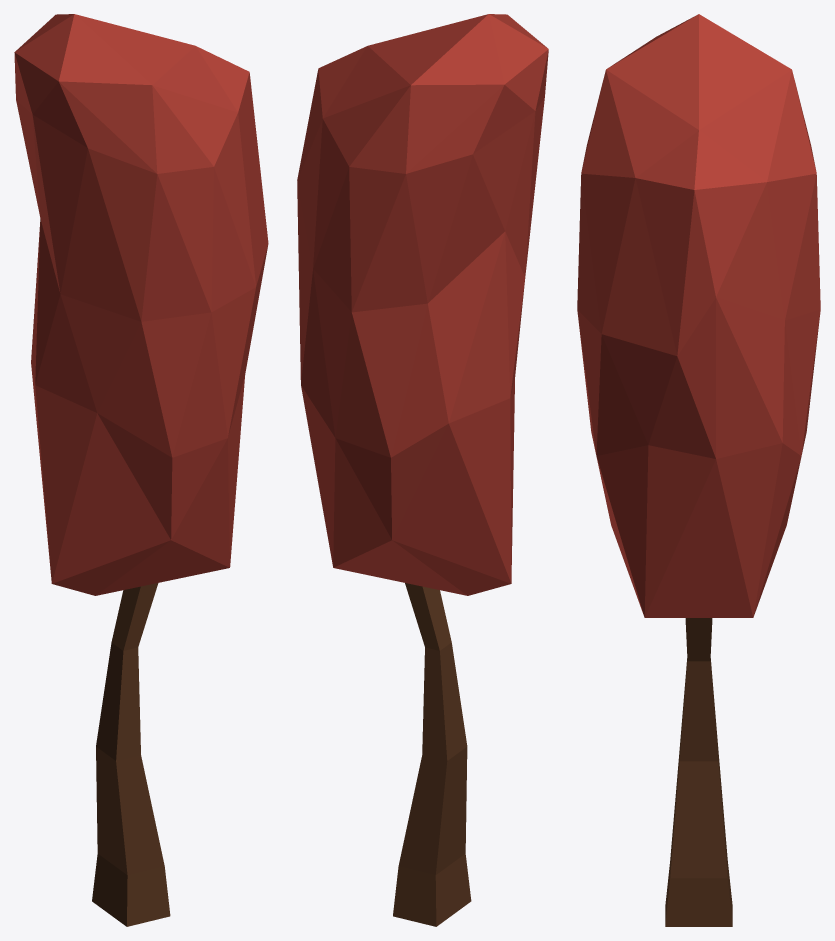
File: Tree_38_Red.fbx
The picture shows the model from 3 angles, left to right: view 1: azimuth 30°, elevation 25°; view 2: azimuth 150°, elevation 25°; view 3: azimuth 270°, elevation 25°; orthographic projection. The views are drawn at different scales.
Visible parts, largest first — view 1: Tree_38_Red_Part_1, Tree_38_Red_Part_2; view 2: Tree_38_Red_Part_1, Tree_38_Red_Part_2; view 3: Tree_38_Red_Part_1, Tree_38_Red_Part_2.
Boxes of the visible parts, x1=… form: Tree_38_Red_Part_1: x1=14, y1=14, x2=268, y2=595; Tree_38_Red_Part_2: x1=92, y1=583, x2=170, y2=926; Tree_38_Red_Part_1: x1=297, y1=14, x2=548, y2=595; Tree_38_Red_Part_2: x1=393, y1=583, x2=471, y2=926; Tree_38_Red_Part_1: x1=577, y1=14, x2=820, y2=617; Tree_38_Red_Part_2: x1=665, y1=618, x2=732, y2=926.
Size of the model in its own units: 209 by 800 by 201.
